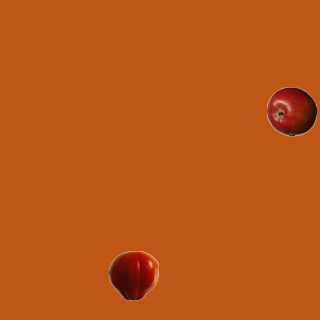Apple Braeburn: (266, 86, 316, 136)
Tomato 1: (108, 250, 158, 300)
